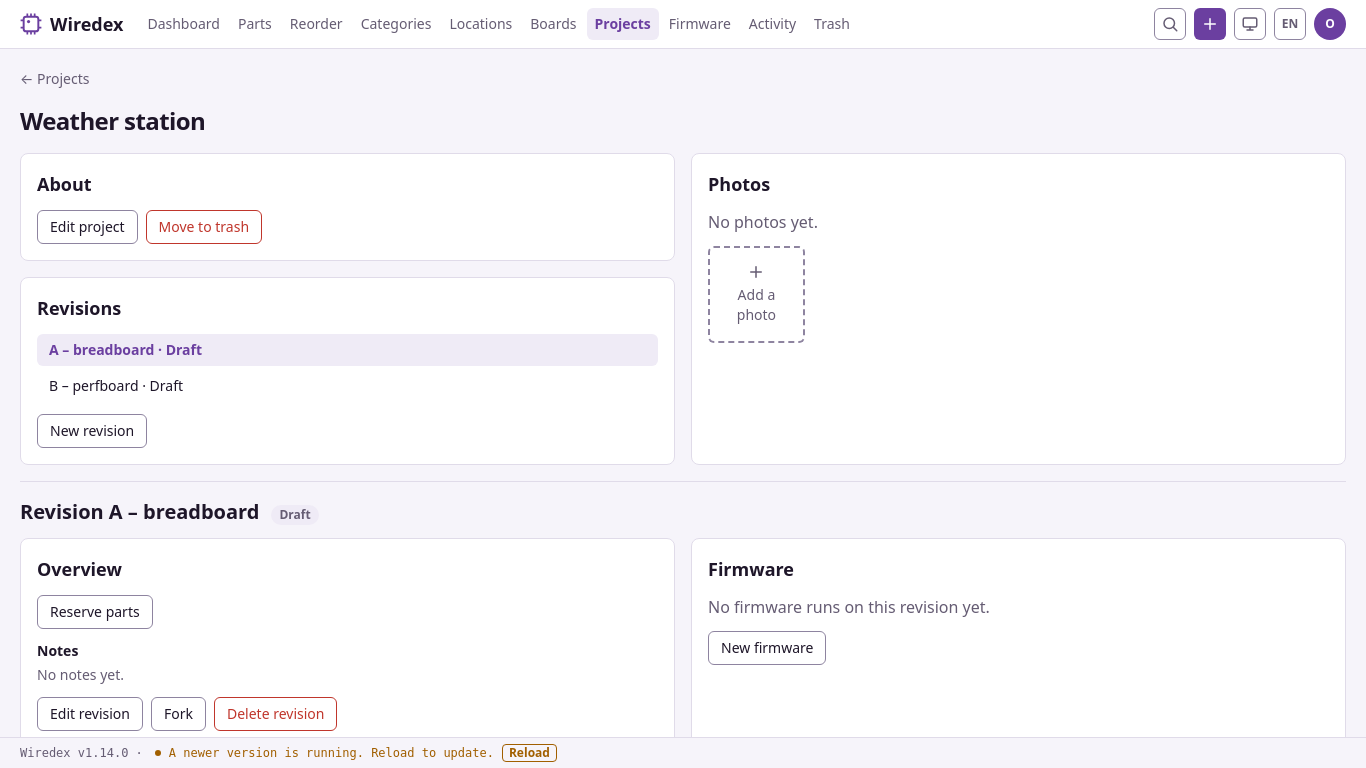
RevisionPanel › edits a revision and keeps it open
Click the button "Edit revision" at (90,714), box [37,697,143,731]
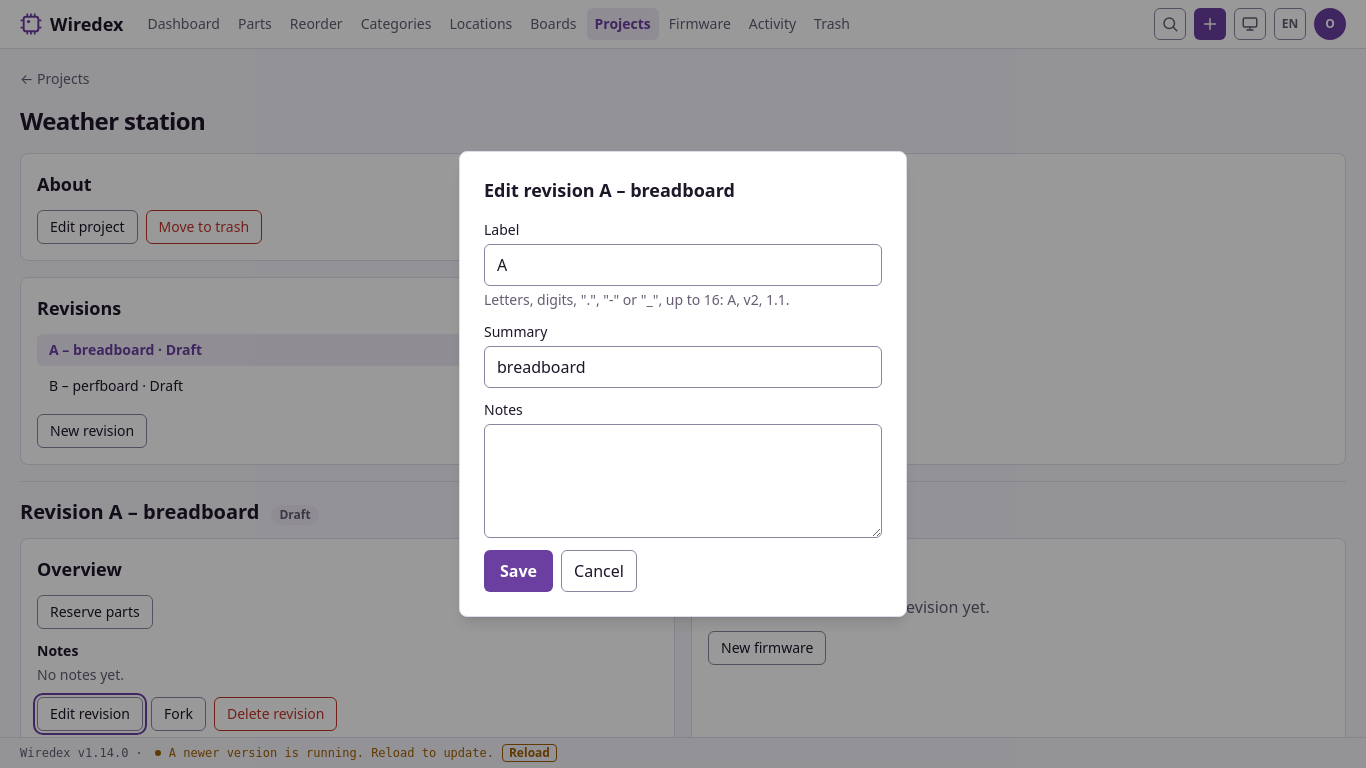
Replace the text in the field labelled "Summary" with "breadboard, v2 sensor" at (683,367), box [484,346,882,388]
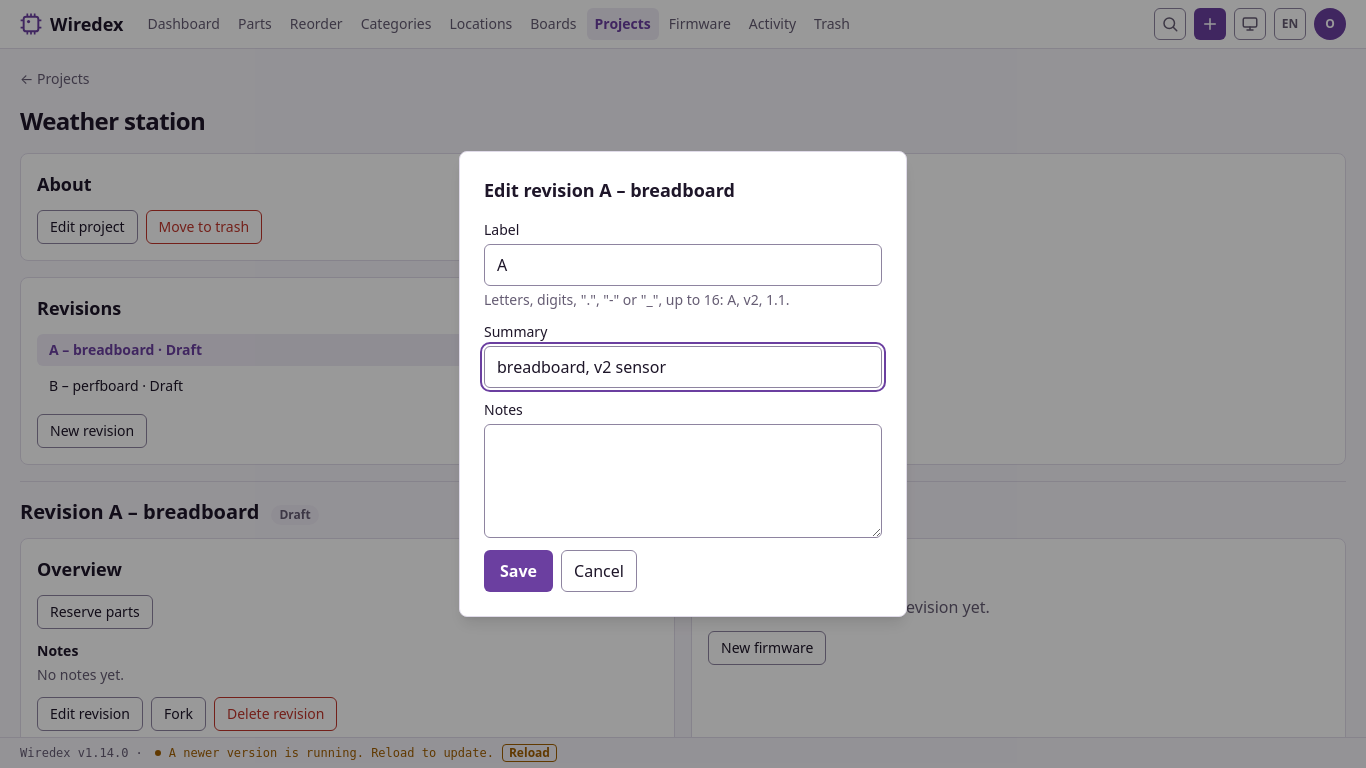
Type "New BME280." into the text box labelled "Notes" at (683,481), box [484,424,882,538]
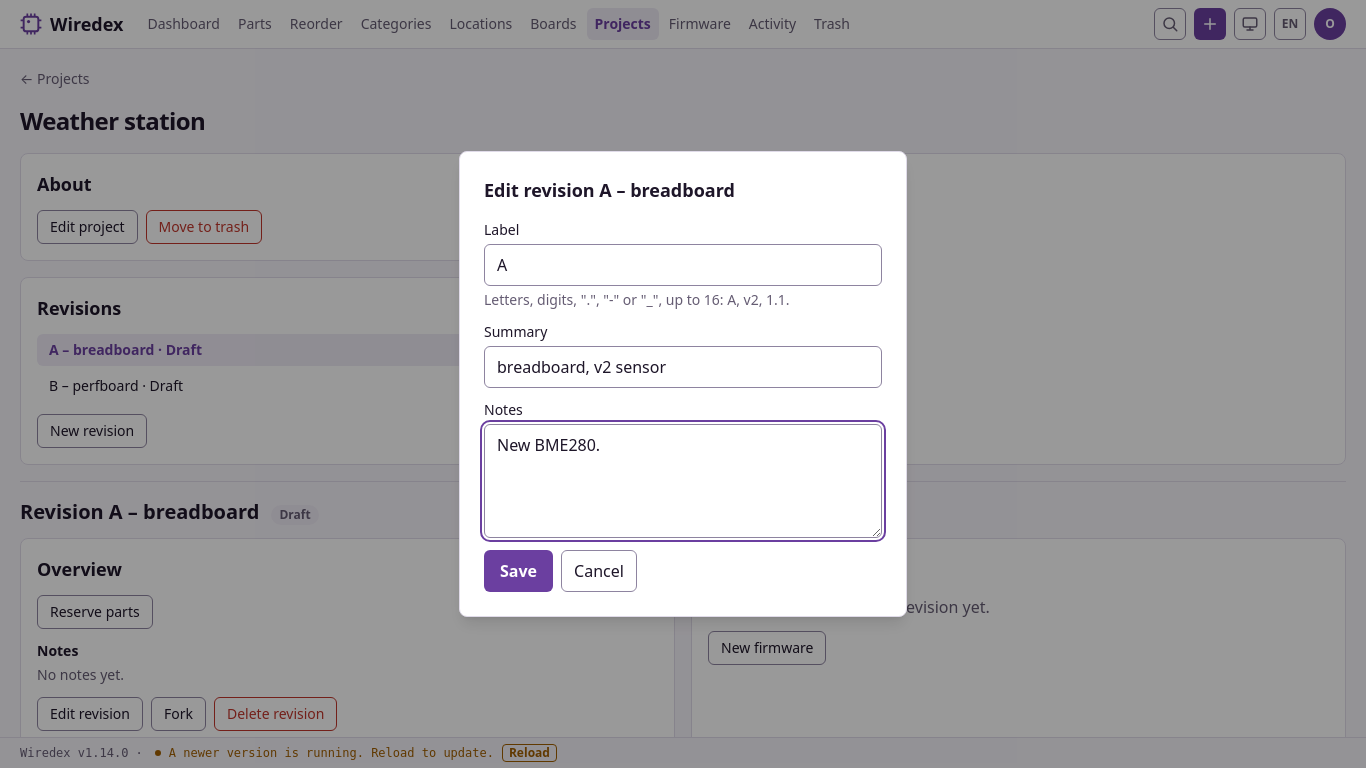
Click the button "Save" at (518,571), box [484,550,553,592]
(page scrolled)
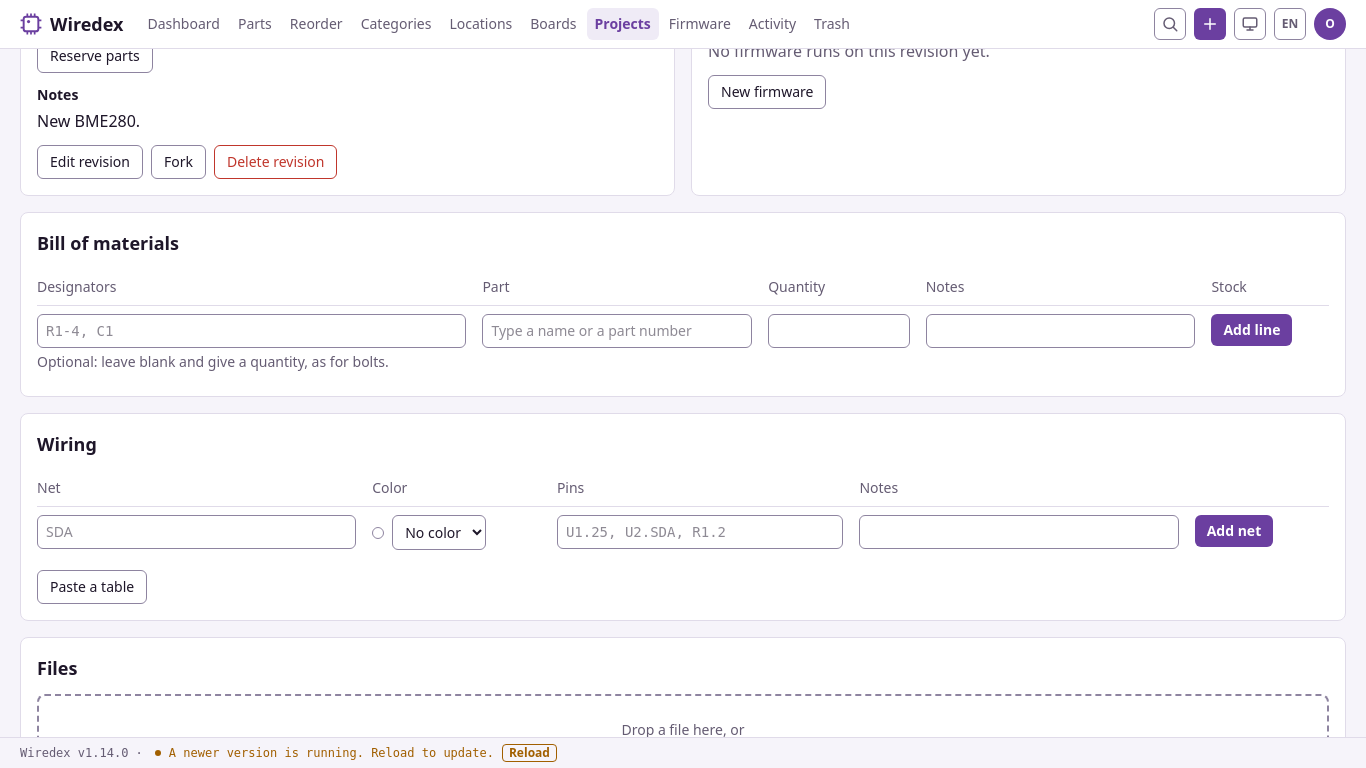
Expected: the element "Revision A – breadboard, v2 sensor" shows "New BME280.", [37,110,140,132]
Expected: the dialog is gone
